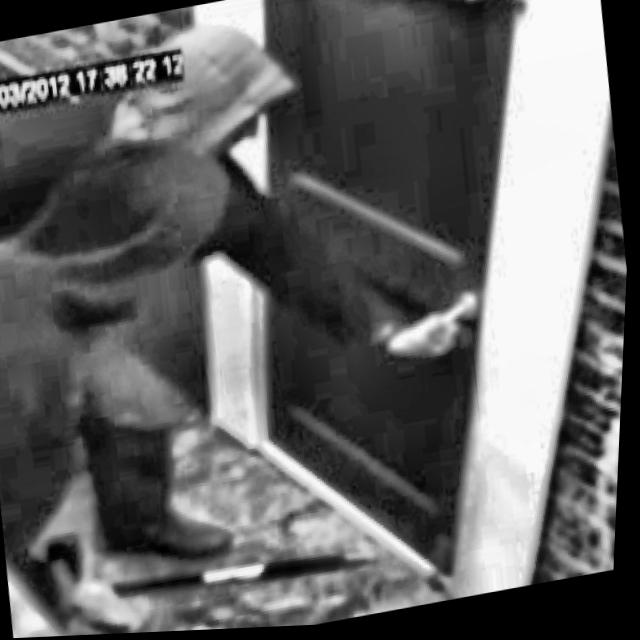burglary: (0, 0, 531, 597)
